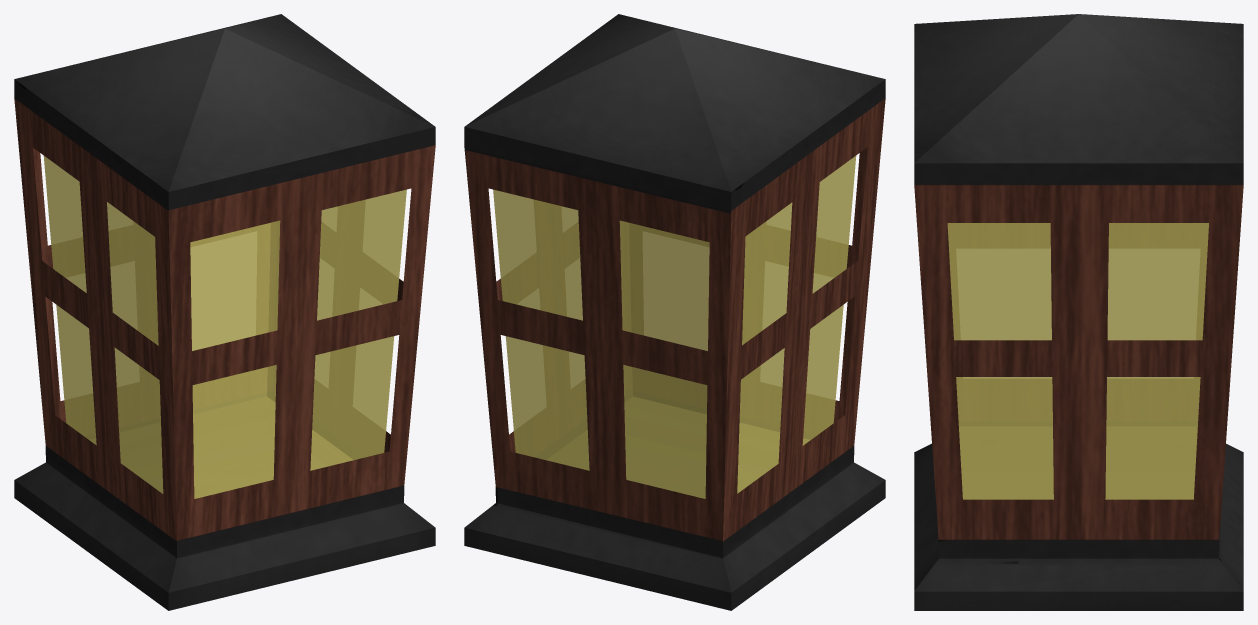
The model's file is lantern.fbx.
The picture shows the model from 3 angles, left to right: view 1: azimuth 30°, elevation 25°; view 2: azimuth 150°, elevation 25°; view 3: azimuth 270°, elevation 25°; orthographic projection. The views are drawn at different scales.
Visible parts, largest first — view 1: pCube25, pCube26; view 2: pCube25, pCube26; view 3: pCube25, pCube26.
Part boxes in pixels (x1,y1,x2,y2): pCube25: [14, 14, 435, 610]; pCube26: [43, 155, 406, 498]; pCube25: [464, 14, 885, 610]; pCube26: [493, 155, 856, 498]; pCube25: [914, 14, 1243, 610]; pCube26: [947, 223, 1208, 499].
Size of the model in its own units: 28.19 by 49.76 by 28.19.
